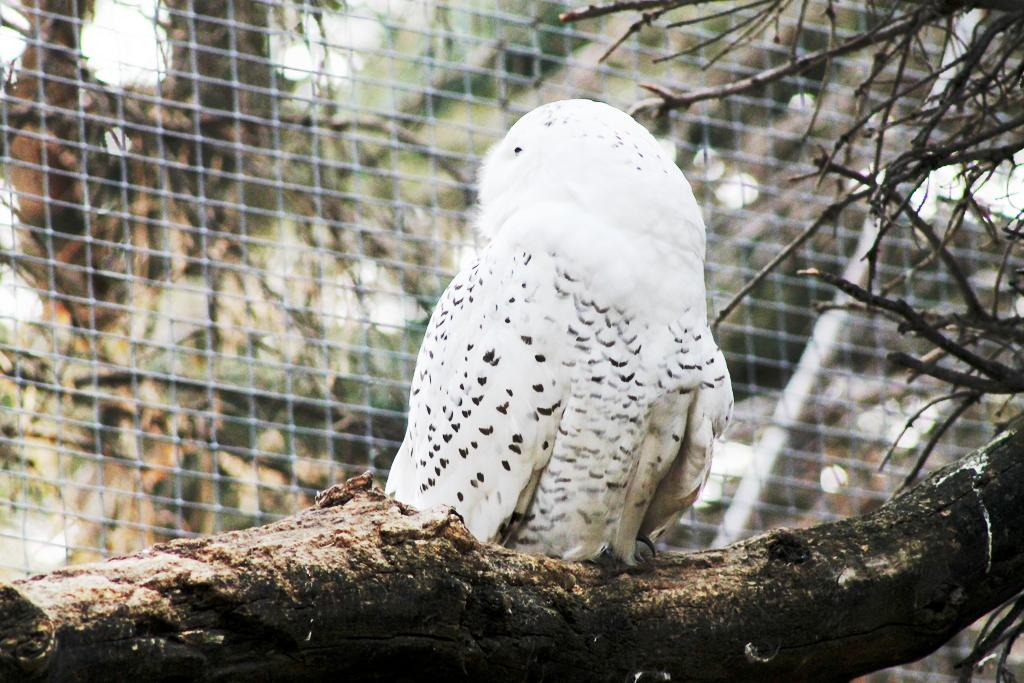Owl: (382, 97, 740, 562)
